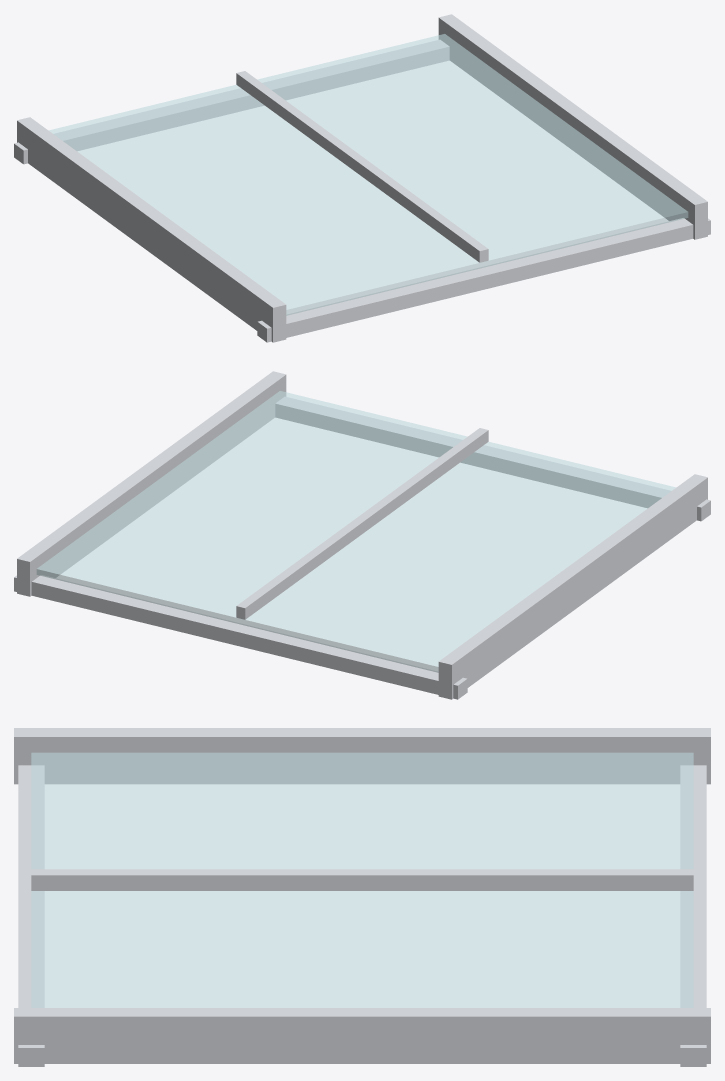
File: three-d-retro-arcade-and-mall-1989-retro-arcade-and-mall-1989-skylight-bay-b7085dd6.glb
The picture shows the model from 3 angles, top to bottom: view 1: azimuth 30°, elevation 25°; view 2: azimuth 150°, elevation 25°; view 3: azimuth 270°, elevation 25°; orthographic projection. The views are drawn at different scales.
Visible parts, largest first — view 1: skylight-bay; view 2: skylight-bay; view 3: skylight-bay.
Boxes of the visible parts, bbox=[...] form: skylight-bay: bbox=[14, 14, 710, 342]; skylight-bay: bbox=[14, 371, 710, 699]; skylight-bay: bbox=[14, 728, 710, 1066].
Size of the model in its own units: 4 by 0.2998 by 4.
